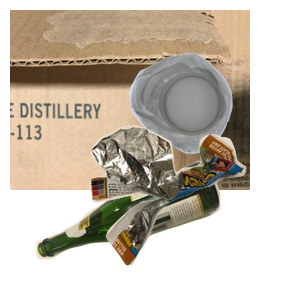cardboard: (10, 10, 250, 190)
glass: (33, 158, 246, 300)
plastic: (127, 51, 300, 197)
trash: (88, 123, 300, 300)
